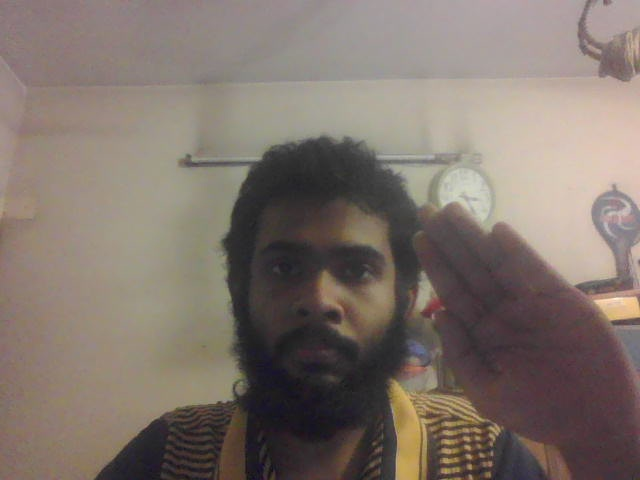Hello: (404, 202, 640, 452)
